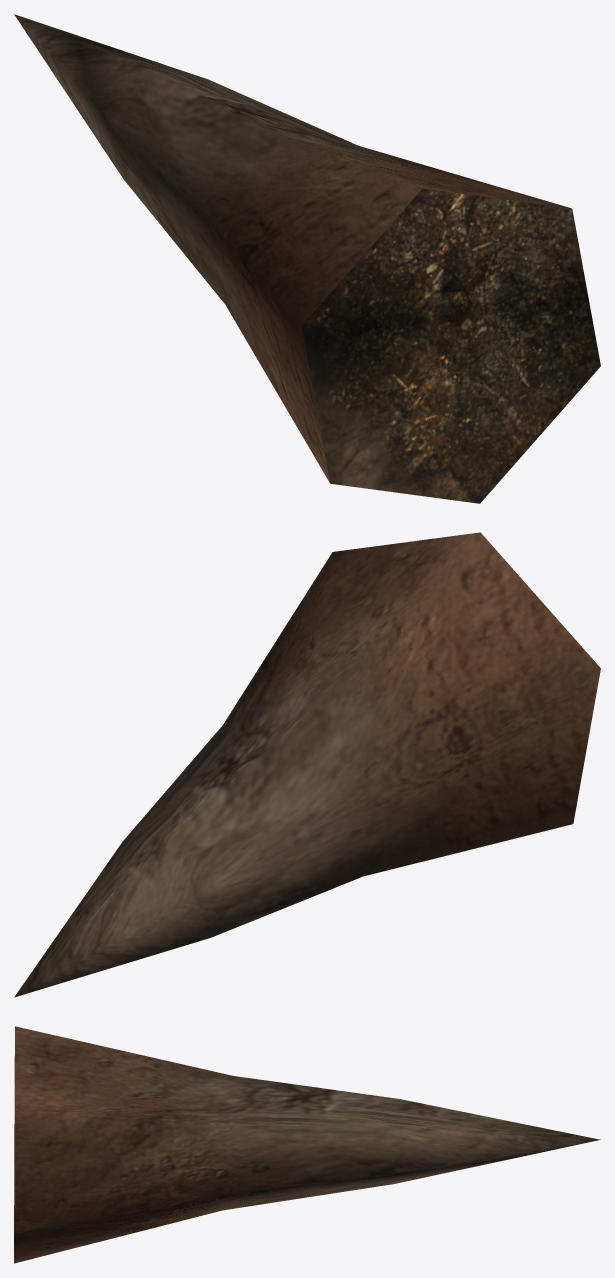
File: stalactite_07.obj
The picture shows the model from 3 angles, top to bottom: view 1: azimuth 30°, elevation 25°; view 2: azimuth 150°, elevation 25°; view 3: azimuth 270°, elevation 25°; orthographic projection. The views are drawn at different scales.
Visible parts, largest first — view 1: (null); view 2: (null); view 3: (null).
Boxes of the visible parts, <box> form: (null): <box>14,14,600,503</box>; (null): <box>14,532,600,997</box>; (null): <box>14,1026,600,1263</box>.
Bounding box in the file's own units: 3.05 × 3.2 × 7.78.
